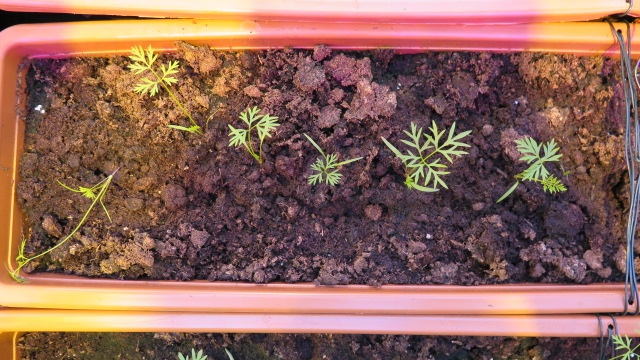crop: (6, 163, 132, 283), (119, 42, 208, 138), (378, 117, 478, 196), (492, 133, 574, 203), (218, 102, 284, 166), (300, 131, 371, 188)
